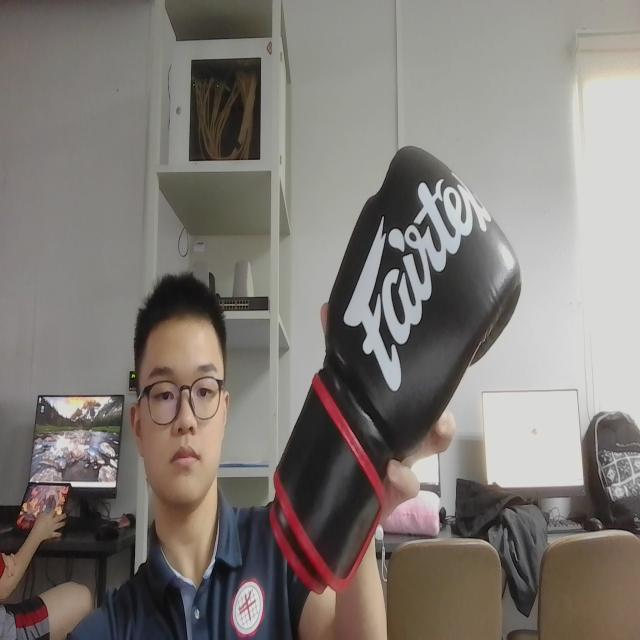boxing glove: (258, 139, 527, 591)
